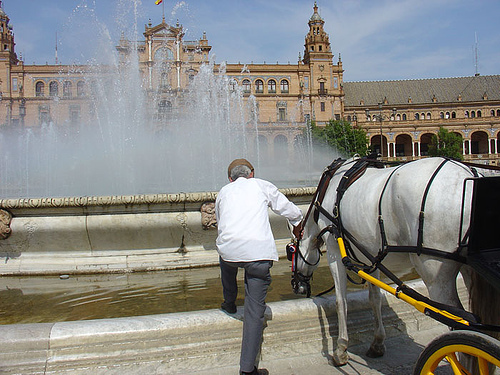horse: (284, 154, 500, 375)
